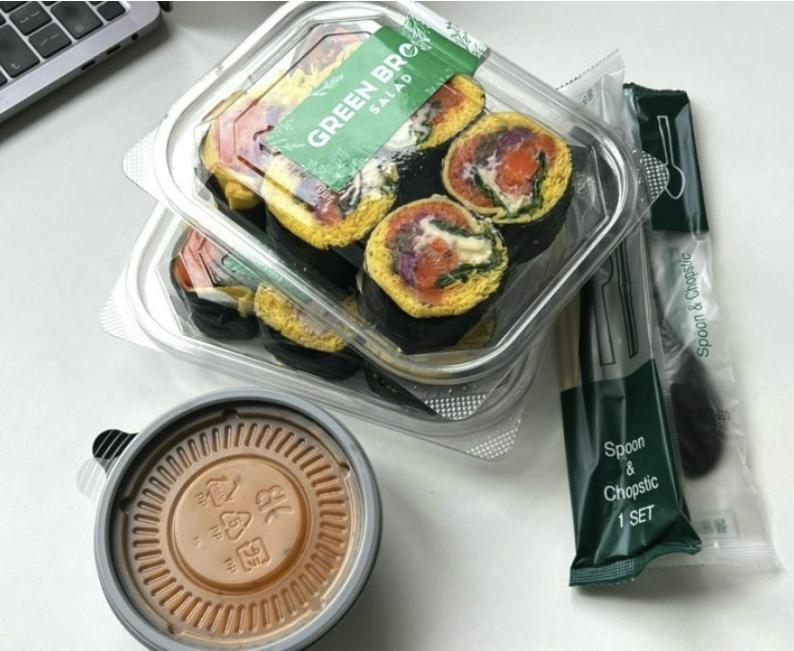Lunch Box: (103, 0, 666, 459), (78, 389, 381, 650)
